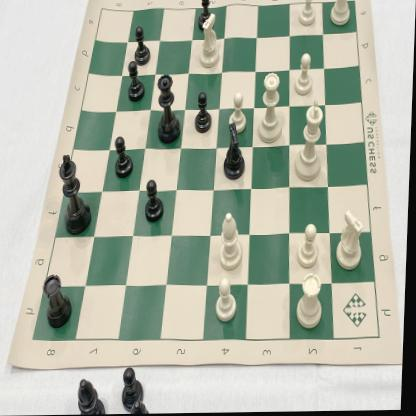black-king: (57, 150, 94, 238)
black-knight: (220, 122, 252, 182)
black-pawn: (142, 176, 169, 228), (192, 86, 216, 136), (113, 136, 137, 182), (126, 57, 149, 104), (132, 22, 154, 70), (194, 0, 216, 36)
black-queen: (154, 71, 185, 148)
black-rook: (42, 270, 78, 332)
white-bishop: (220, 209, 250, 273)
white-king: (294, 98, 328, 186)
white-knight: (336, 208, 370, 274), (197, 8, 226, 72)
white-pawn: (296, 222, 324, 273), (214, 276, 241, 326), (294, 50, 318, 100), (227, 90, 251, 134), (295, 0, 319, 28)
white-queen: (256, 68, 288, 148)
white-rook: (292, 272, 330, 335), (327, 0, 356, 30)
